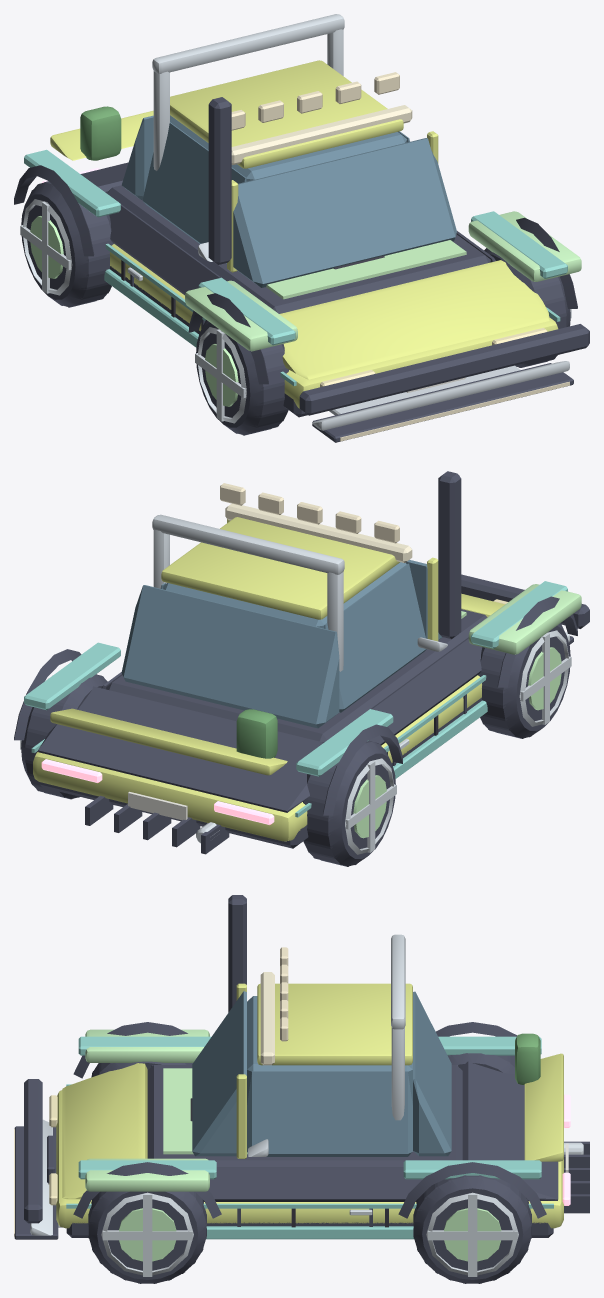
Rendered from forest_falcon.fbx.
The picture shows the model from 3 angles, top to bottom: view 1: azimuth 30°, elevation 25°; view 2: azimuth 150°, elevation 25°; view 3: azimuth 270°, elevation 25°; orthographic projection. The views are drawn at different scales.
Visible parts, largest first — view 1: Body, Glass, Trim, Accent2, Accent3, Accent, Metal, Wheel_RR, Wheel_FR, Light, Light4, Accent5 (+3 smaller); view 2: Trim, Glass, Body, Accent, Accent2, Wheel_RR, Metal, Wheel_FR, Light4, Accent3, Light, Wheel_RL (+4 smaller); view 3: Trim, Body, Glass, Accent, Accent3, Wheel_RL, Metal, Wheel_FL, Accent2, Metal2, Light4, Accent5 (+4 smaller).
Boxes of the visible parts, x1=… form: Body: x1=50, y1=60, x2=558, y2=408; Glass: x1=122, y1=115, x2=456, y2=287; Trim: x1=14, y1=97, x2=589, y2=442; Accent2: x1=152, y1=14, x2=569, y2=430; Accent3: x1=185, y1=211, x2=581, y2=351; Accent: x1=24, y1=149, x2=567, y2=385; Metal: x1=20, y1=199, x2=571, y2=423; Wheel_RR: x1=21, y1=181, x2=113, y2=307; Wheel_FR: x1=196, y1=320, x2=288, y2=435; Light: x1=231, y1=72, x2=569, y2=441; Light4: x1=231, y1=105, x2=412, y2=164; Accent5: x1=80, y1=106, x2=121, y2=160; Trim: x1=14, y1=471, x2=589, y2=854; Glass: x1=121, y1=560, x2=442, y2=728; Body: x1=33, y1=517, x2=504, y2=841; Accent: x1=24, y1=581, x2=567, y2=817; Accent2: x1=152, y1=514, x2=569, y2=671; Wheel_RR: x1=303, y1=740, x2=395, y2=866; Metal: x1=20, y1=630, x2=571, y2=854; Wheel_FR: x1=478, y1=623, x2=570, y2=738; Light4: x1=225, y1=503, x2=412, y2=562; Accent3: x1=461, y1=584, x2=581, y2=654; Light: x1=220, y1=483, x2=399, y2=543; Wheel_RL: x1=21, y1=674, x2=107, y2=799; Trim: x1=14, y1=895, x2=589, y2=1239; Body: x1=56, y1=983, x2=563, y2=1228; Glass: x1=192, y1=991, x2=451, y2=1156; Accent: x1=66, y1=1036, x2=553, y2=1239; Accent3: x1=85, y1=1029, x2=247, y2=1191; Wheel_RL: x1=413, y1=1175, x2=531, y2=1283; Metal: x1=58, y1=1142, x2=583, y2=1276; Wheel_FL: x1=88, y1=1191, x2=206, y2=1283; Accent2: x1=30, y1=934, x2=405, y2=1235; Metal2: x1=119, y1=1208, x2=501, y2=1261; Light4: x1=260, y1=972, x2=274, y2=1065; Accent5: x1=515, y1=1033, x2=540, y2=1084.
Bounding box in the file's own units: 3.46 × 2.83 × 5.56.
